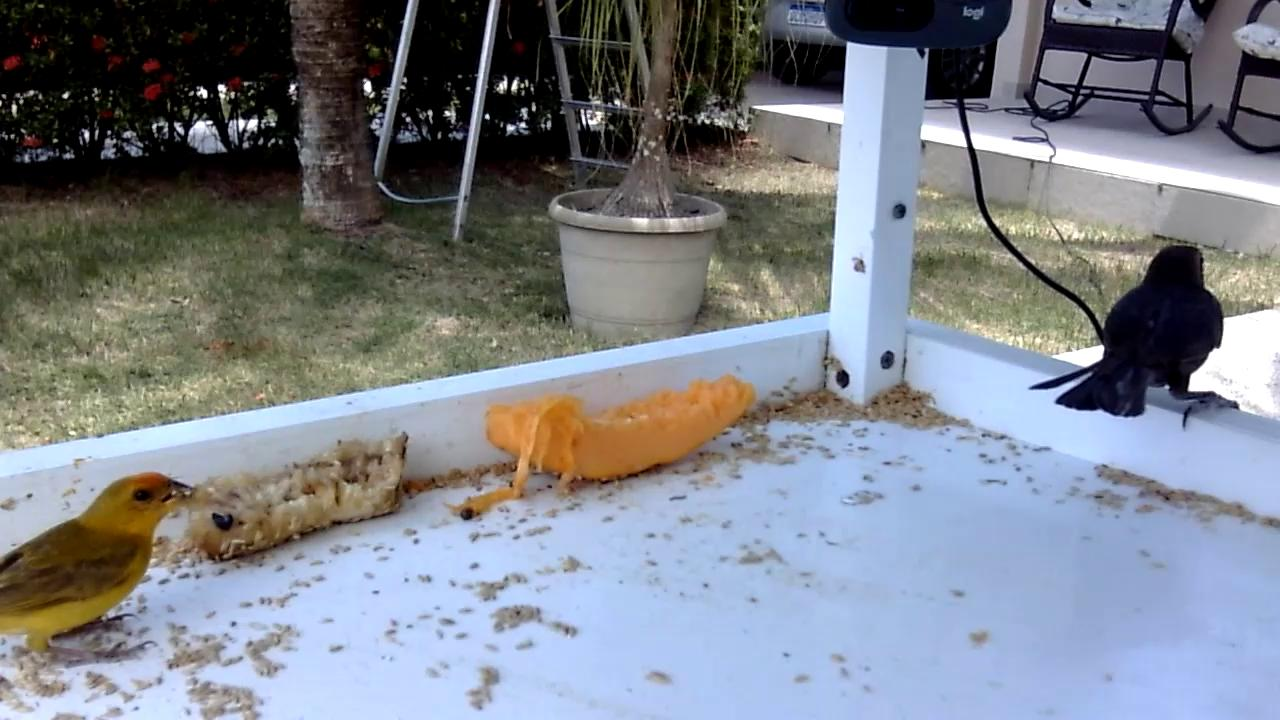canario_do_amazonas: (1, 470, 199, 670)
chupim: (1025, 239, 1241, 433)
